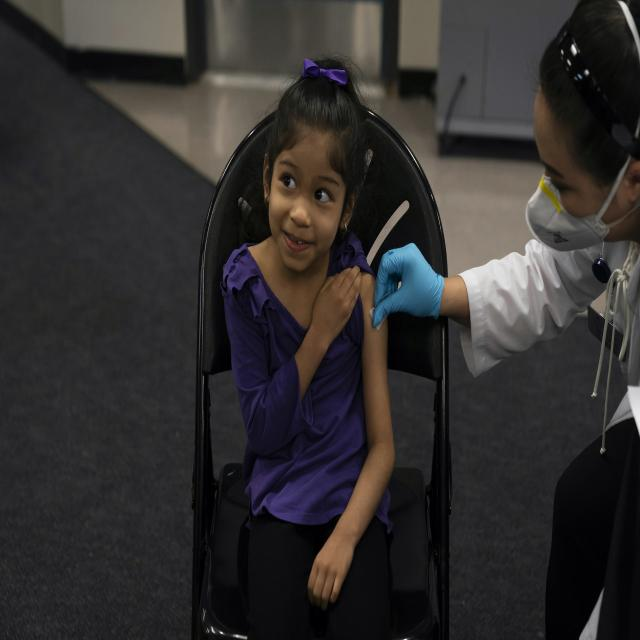adult: (369, 0, 640, 640)
child: (222, 51, 396, 640)
